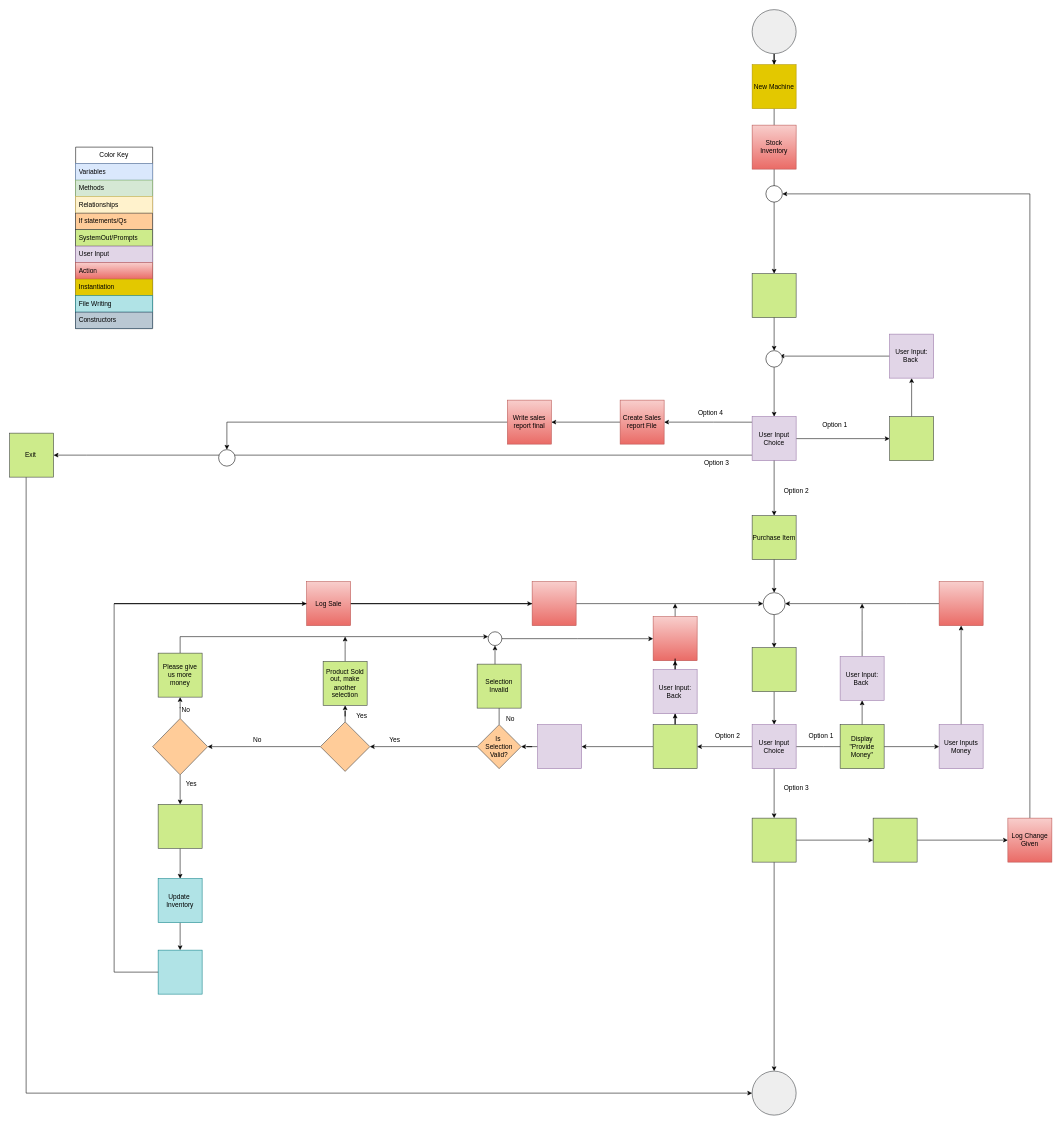
Some shapes in this 1062 by 1125 pixel diagram are drawn without their labels. Each missing label, with the centre of its shape:
"Add to total sales" belongs at pixel 554 603.
"Dispense Item" belongs at pixel 180 826.
"Display Main Menu" belongs at pixel 774 295.
"Display Products Available" belongs at pixel 675 746.
"Display Purchasing Process Menu" belongs at pixel 774 669.
"Display Vending Machine Items" belongs at pixel 911 438.
"End" belongs at pixel 774 1093.
"Finish Transaction" belongs at pixel 774 840.
"Is balance >= product cost" belongs at pixel 180 746.
"Is product sold out?" belongs at pixel 345 746.
"Log Money Feed" belongs at pixel 961 603.
"Return Money" belongs at pixel 895 840.
"Return to Purchasing Product Menu" belongs at pixel 675 638.
"Select Product" belongs at pixel 559 746.
"Start" belongs at pixel 774 31.
"Update Balance" belongs at pixel 180 972.
